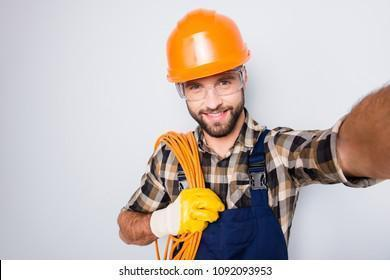helmet: (166, 9, 251, 83)
